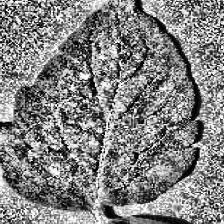spider mites: (0, 0, 199, 209)
